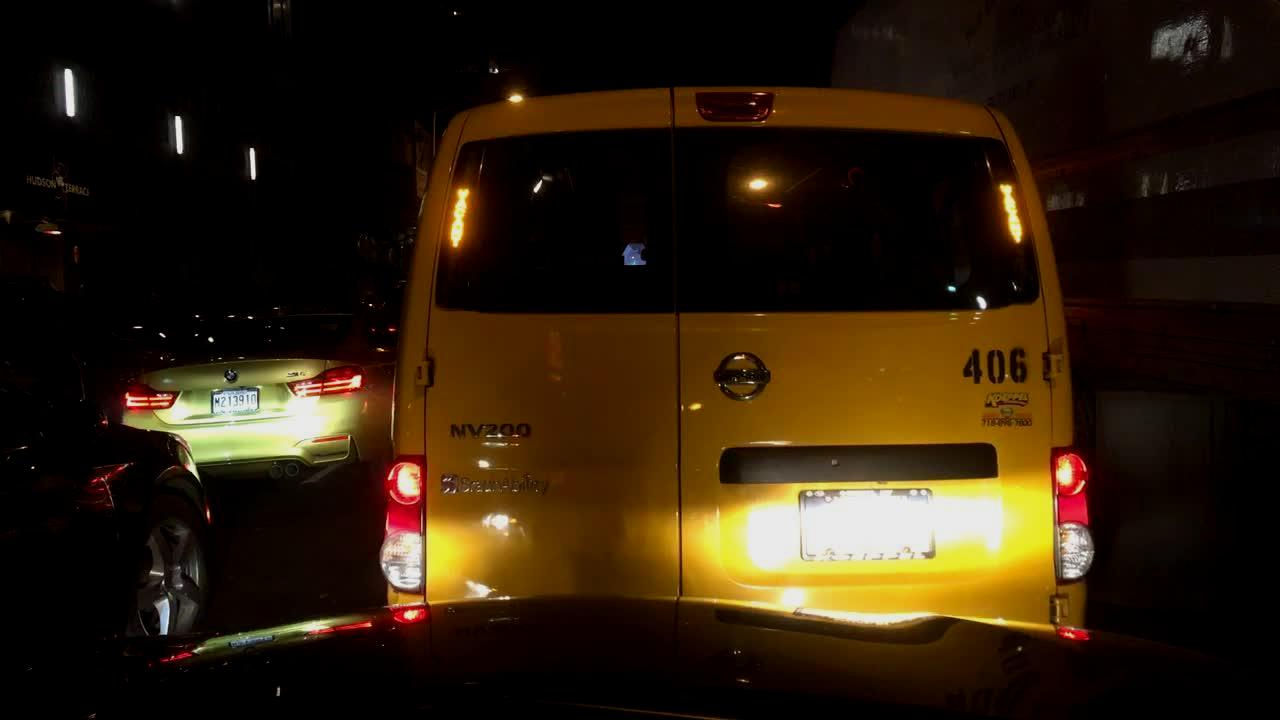Nissan: (707, 342, 781, 410)
